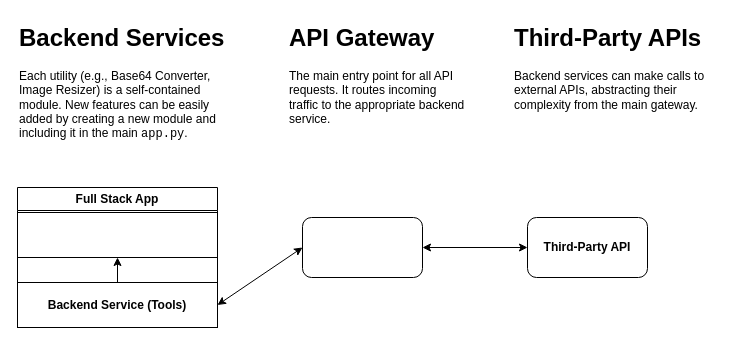
The diagram is 740 pixels wide and 345 high, and some of its shapes have lost their labels. Here are the shapes that lost their labels. From the top down, the box of each, then its label:
(16, 212, 218, 258): Frontend (UI/UX)
(302, 216, 422, 278): API Gateway (This App)
